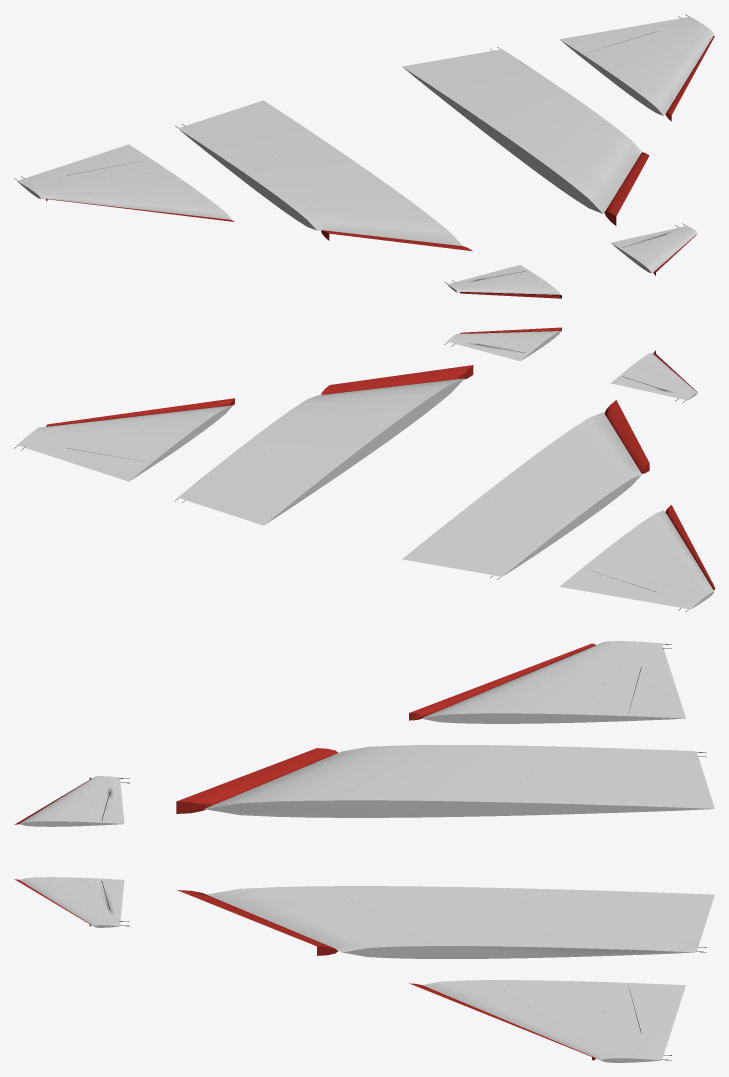
The model's file is estilo_ala_flecha.glb.
3 views of the same model, one above another, from view 1: azimuth 30°, elevation 25°; view 2: azimuth 150°, elevation 25°; view 3: azimuth 270°, elevation 25° (orthographic). The views are drawn at different scales.
Visible parts, largest first — view 1: he77af7e1, h78782a89, hf81207dd, hb6c06d79, h094a74d5, hd3ee9515; view 2: he77af7e1, h78782a89, hf81207dd, hb6c06d79, hd3ee9515, h094a74d5; view 3: h78782a89, he77af7e1, hb6c06d79, hf81207dd, hd3ee9515, h094a74d5.
Part boxes in pixels (left/top/right/bottom): he77af7e1: left=402, top=47, right=649, bottom=225; h78782a89: left=175, top=100, right=472, bottom=251; hf81207dd: left=560, top=14, right=714, bottom=121; hb6c06d79: left=14, top=144, right=234, bottom=221; h094a74d5: left=444, top=265, right=561, bottom=298; hd3ee9515: left=610, top=223, right=697, bottom=275; he77af7e1: left=175, top=365, right=473, bottom=525; h78782a89: left=402, top=400, right=649, bottom=579; hf81207dd: left=14, top=398, right=234, bottom=481; hb6c06d79: left=560, top=505, right=714, bottom=611; hd3ee9515: left=444, top=327, right=561, bottom=361; h094a74d5: left=611, top=350, right=697, bottom=402; h78782a89: left=176, top=745, right=714, bottom=817; he77af7e1: left=177, top=886, right=714, bottom=958; hb6c06d79: left=409, top=641, right=685, bottom=723; hf81207dd: left=409, top=980, right=685, bottom=1062; hd3ee9515: left=14, top=877, right=129, bottom=927; h094a74d5: left=14, top=776, right=129, bottom=826.
Size of the model in its own units: 11.2 by 0.2199 by 7.95.
